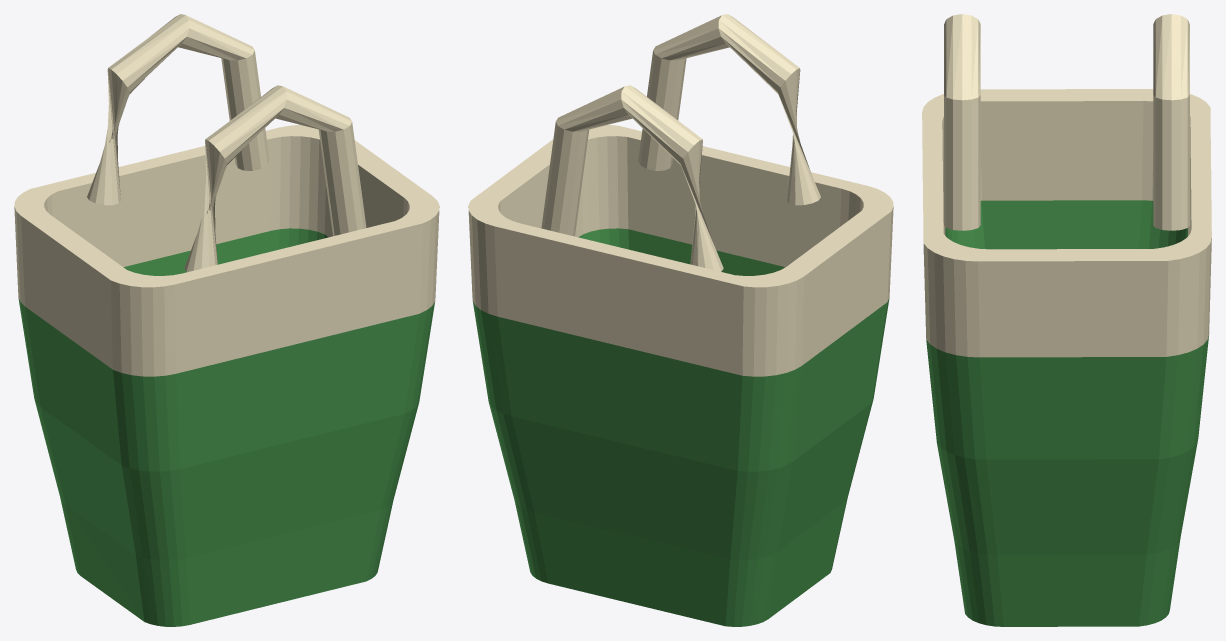
The model's file is basket (1).obj.
The picture shows the model from 3 angles, left to right: view 1: azimuth 30°, elevation 25°; view 2: azimuth 150°, elevation 25°; view 3: azimuth 270°, elevation 25°; orthographic projection. The views are drawn at different scales.
Bounding box in the file's own units: 1.33 × 2.02 × 0.9416.
